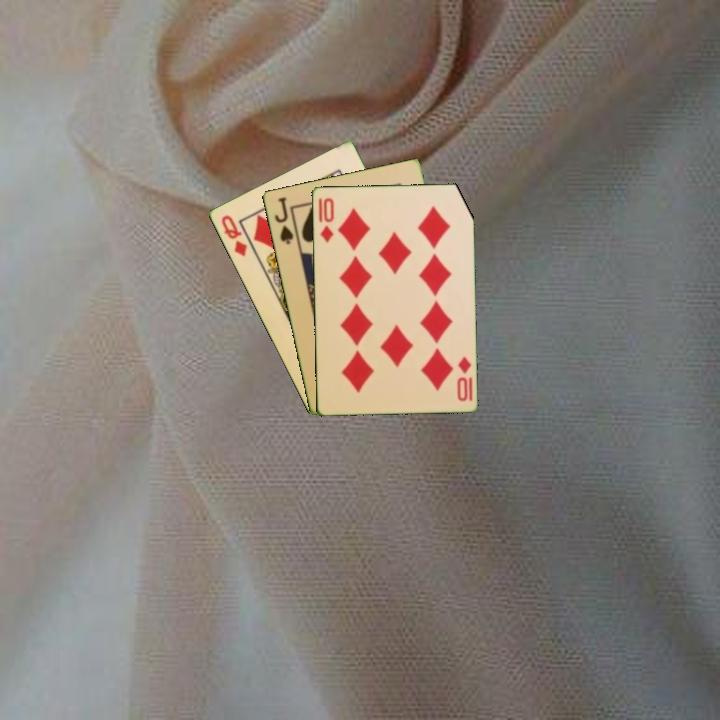10d: (453, 352, 474, 404), (315, 194, 336, 245)
Js: (271, 193, 296, 247)
Qd: (217, 211, 250, 259)
